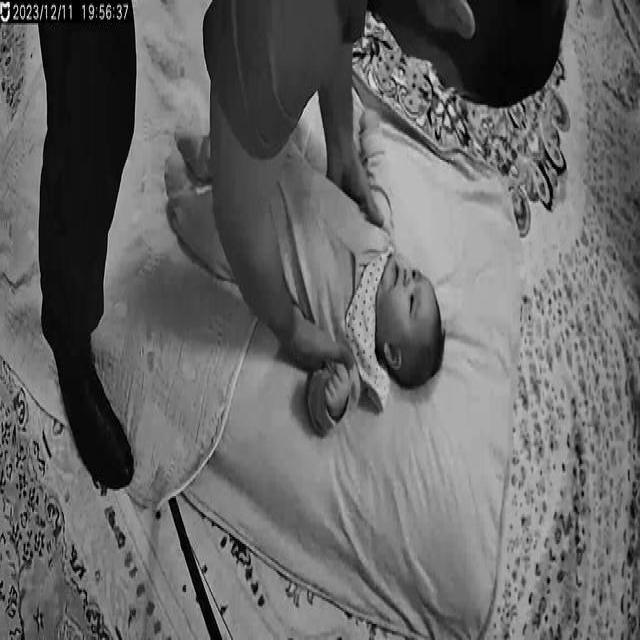baby: (164, 111, 448, 442)
